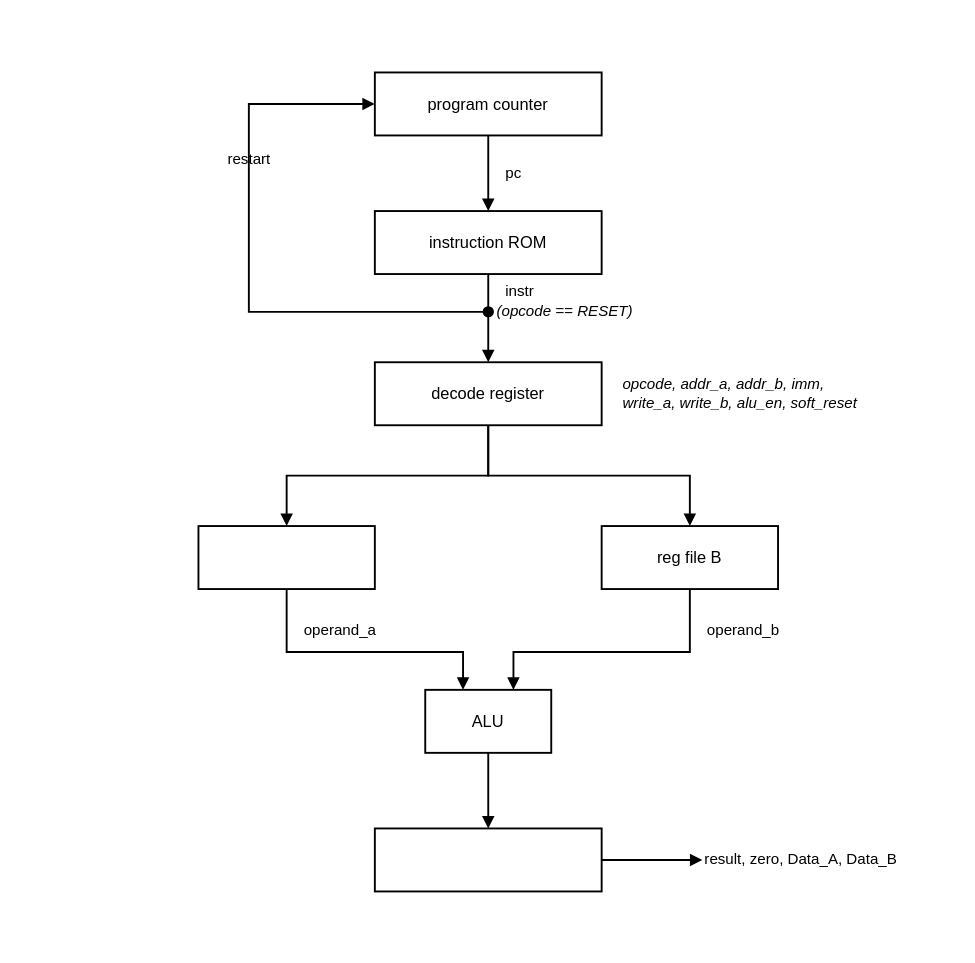
Some shapes in this 975 by 963 pixel diagram are drawn without their labels. The box of each missing label's shape, as (x1, y1, x2, y2) in pixels:
output register: (373, 827, 602, 892)
reg file A: (197, 525, 375, 589)
